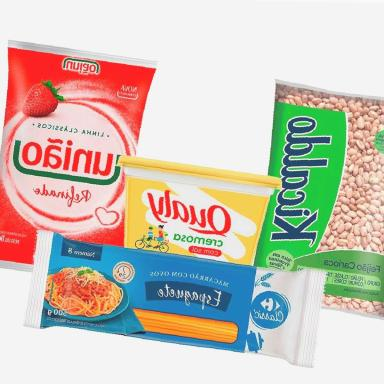pasta package: (26, 231, 325, 366)
